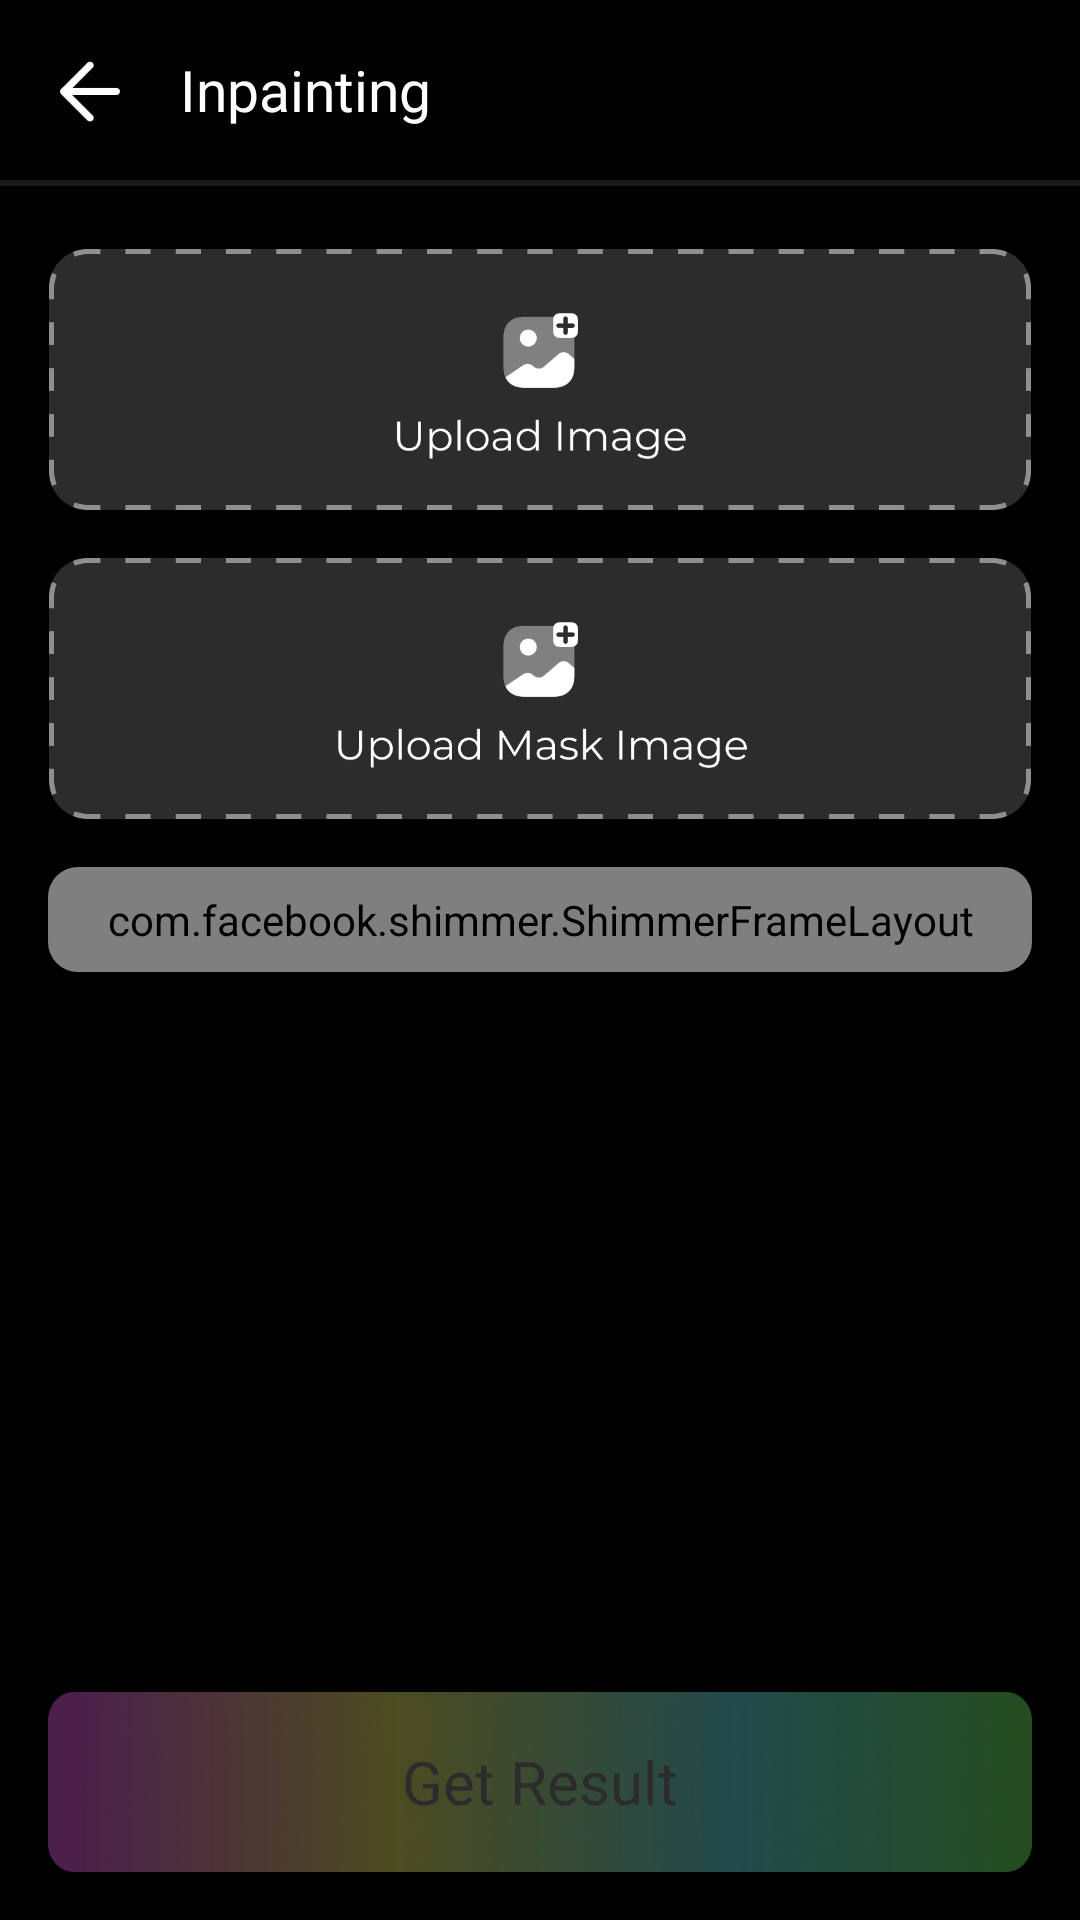

Point at icon controls on the screen. Image size 1080x1920, points as (x=x, y=y).
back: (x=90, y=91)
